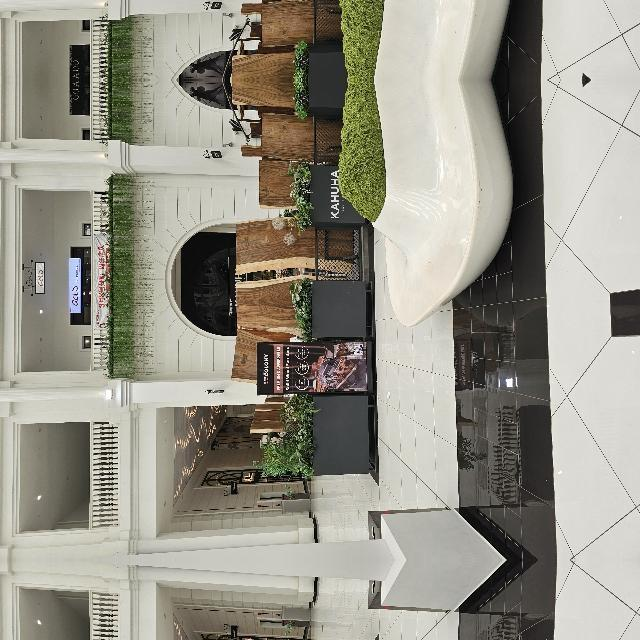obstacle: (232, 417, 478, 596), (231, 524, 478, 640), (0, 365, 60, 595), (162, 333, 222, 452), (0, 525, 60, 640)
